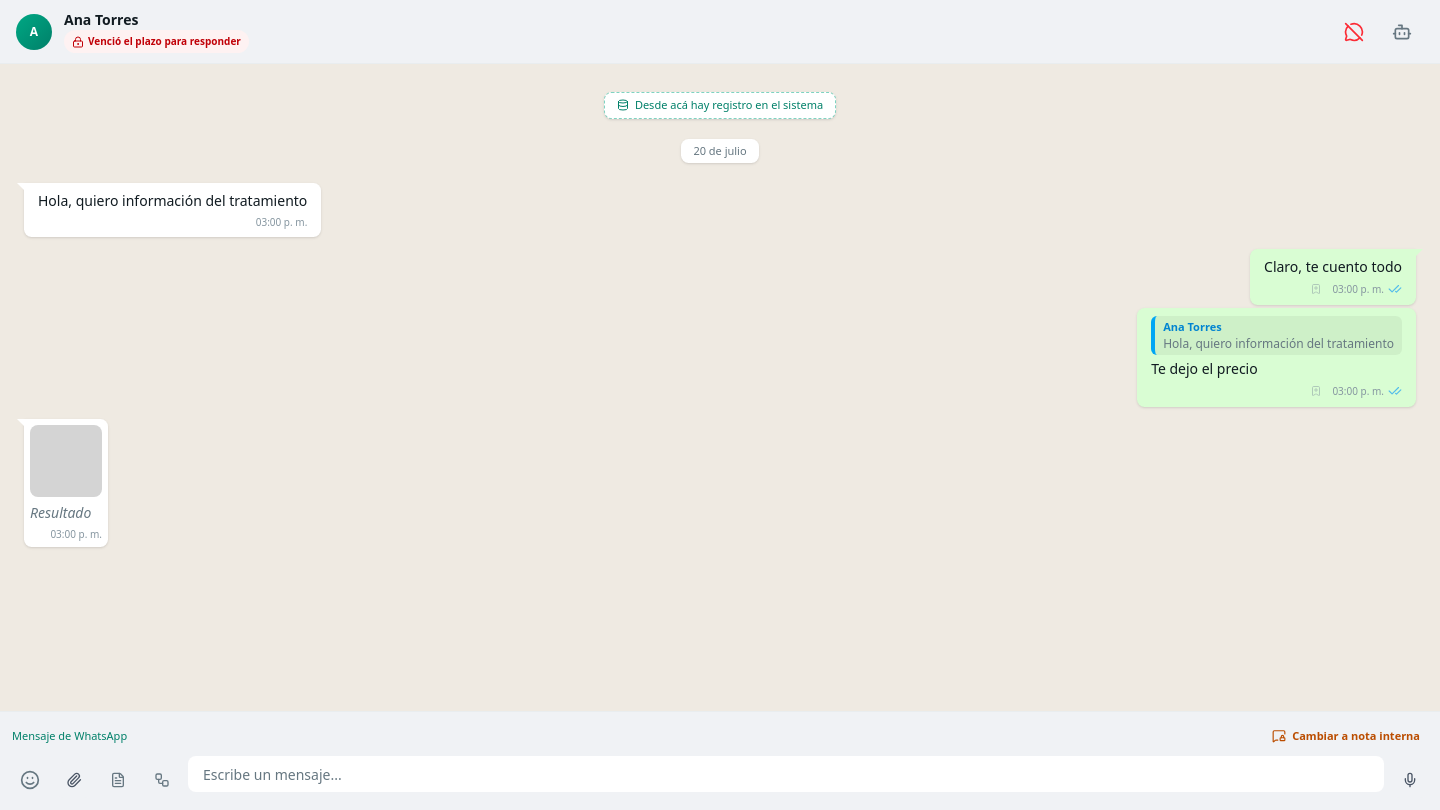
it: ChatThread › permite pasar a nota interna y volver
Click the button "Cambiar a nota interna".
click(1346, 736)  # box x1=1264 y1=724 x2=1428 y2=748
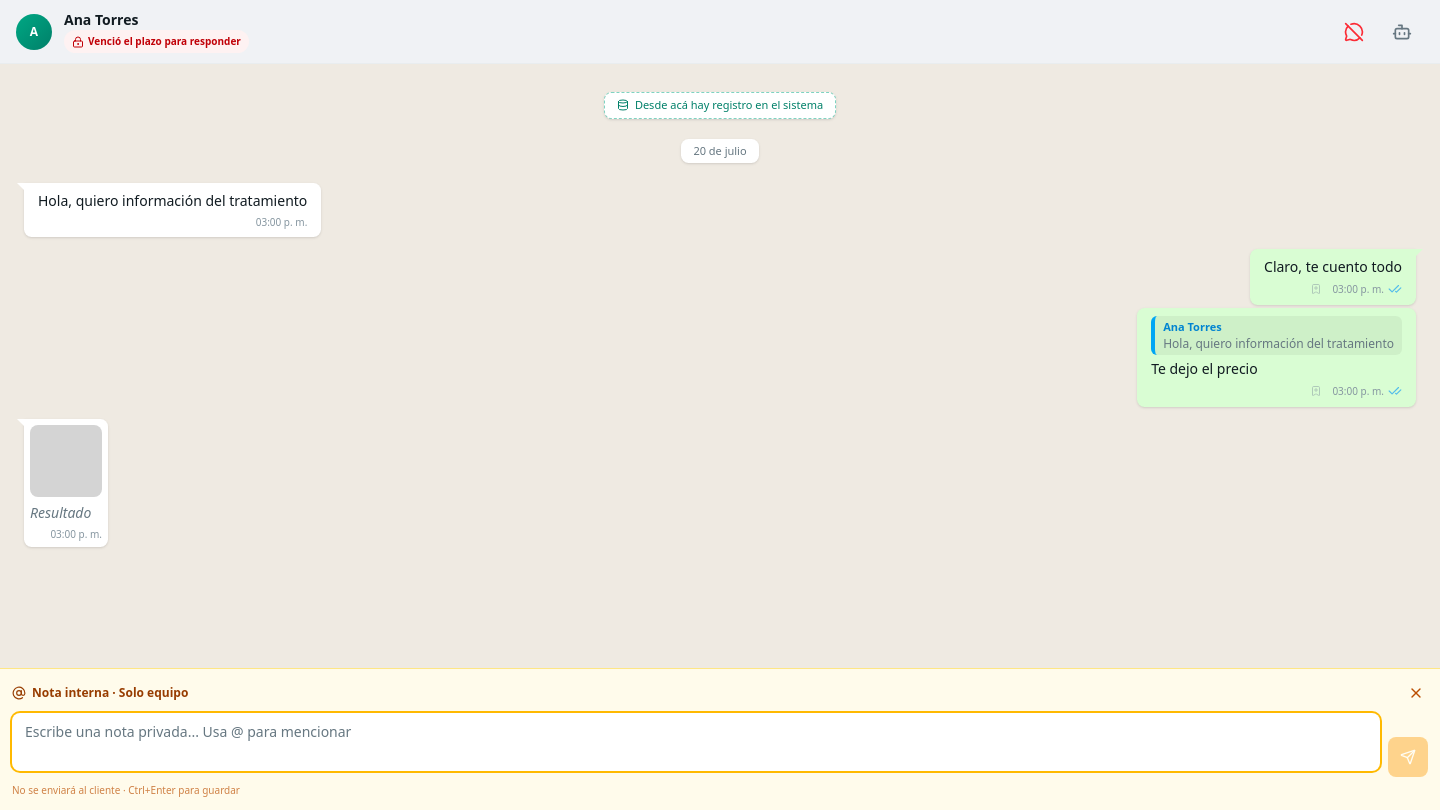
Result: the text "Nota interna · Solo equipo" is shown at x1=12 y1=685 x2=188 y2=701
